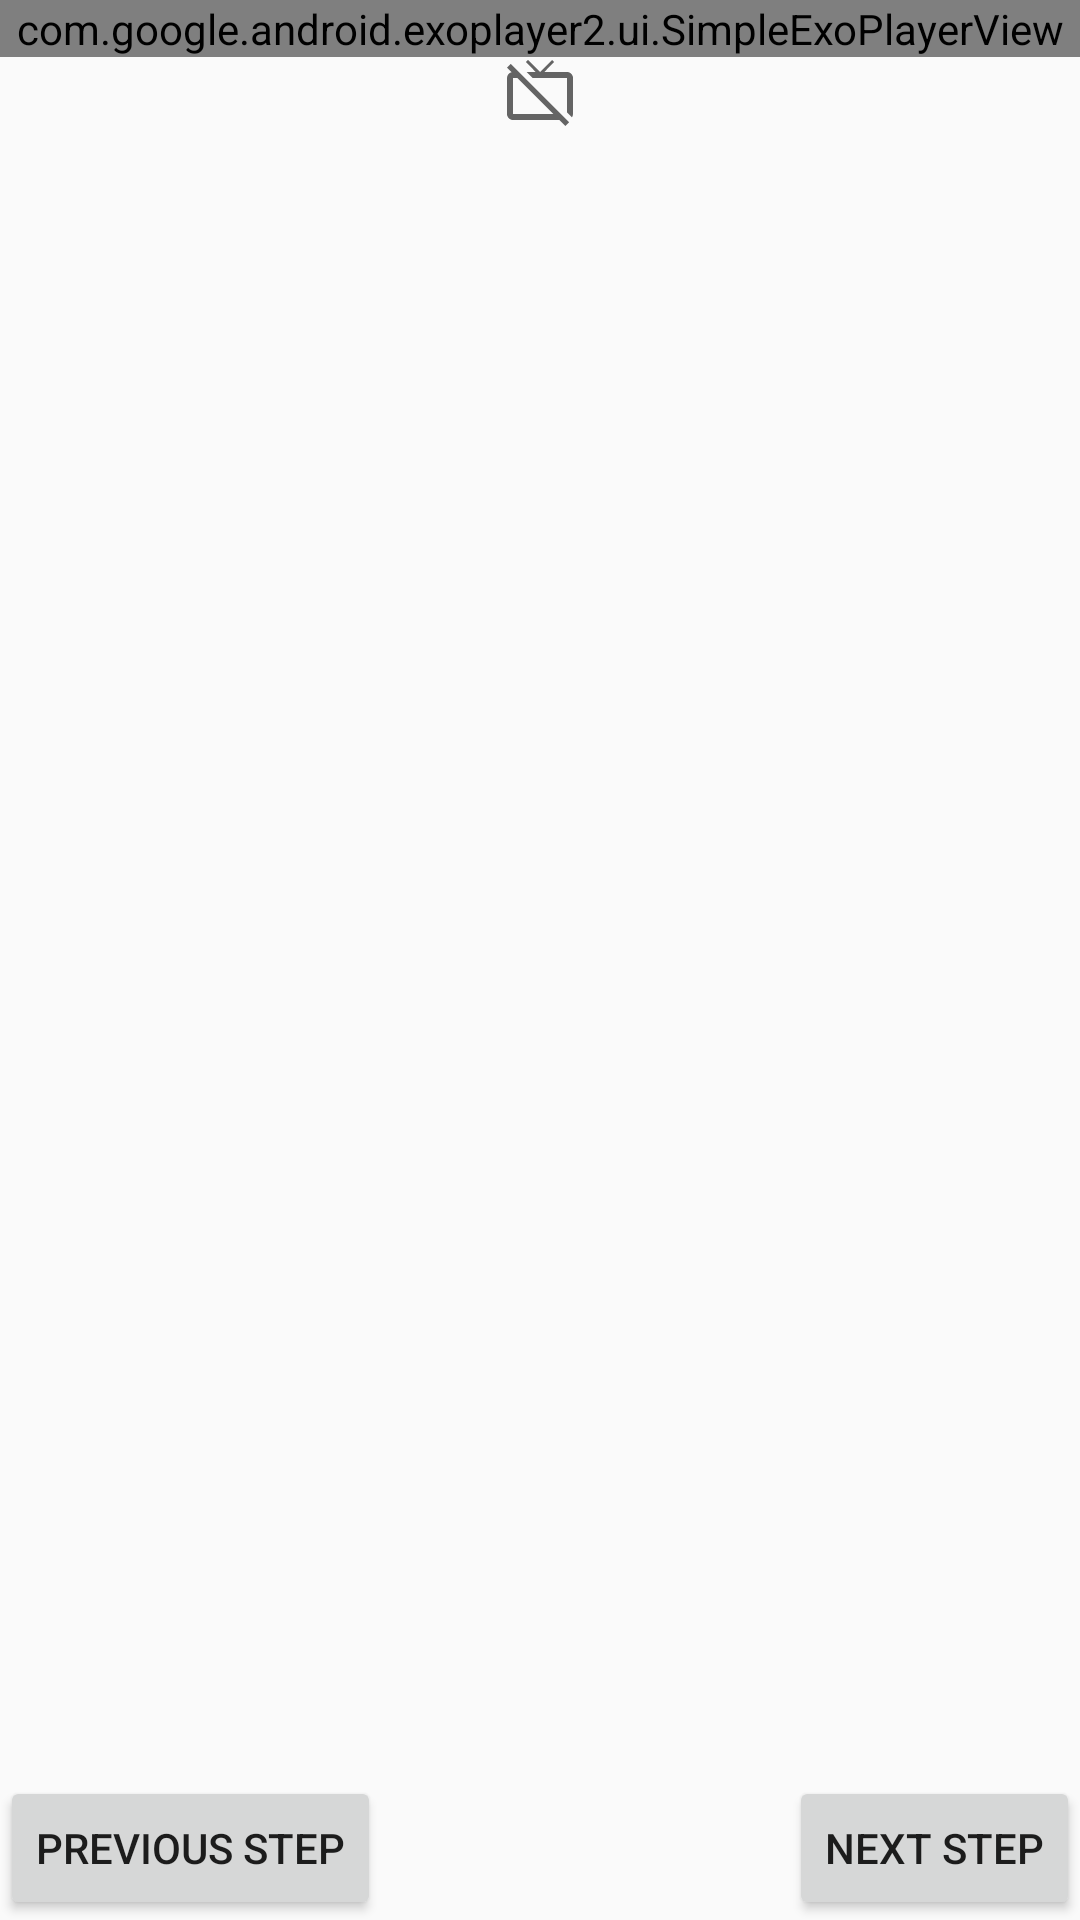

Where to tap for icons on this 1080*1920 app screen, as (x,y):
tv off: (540,93)
